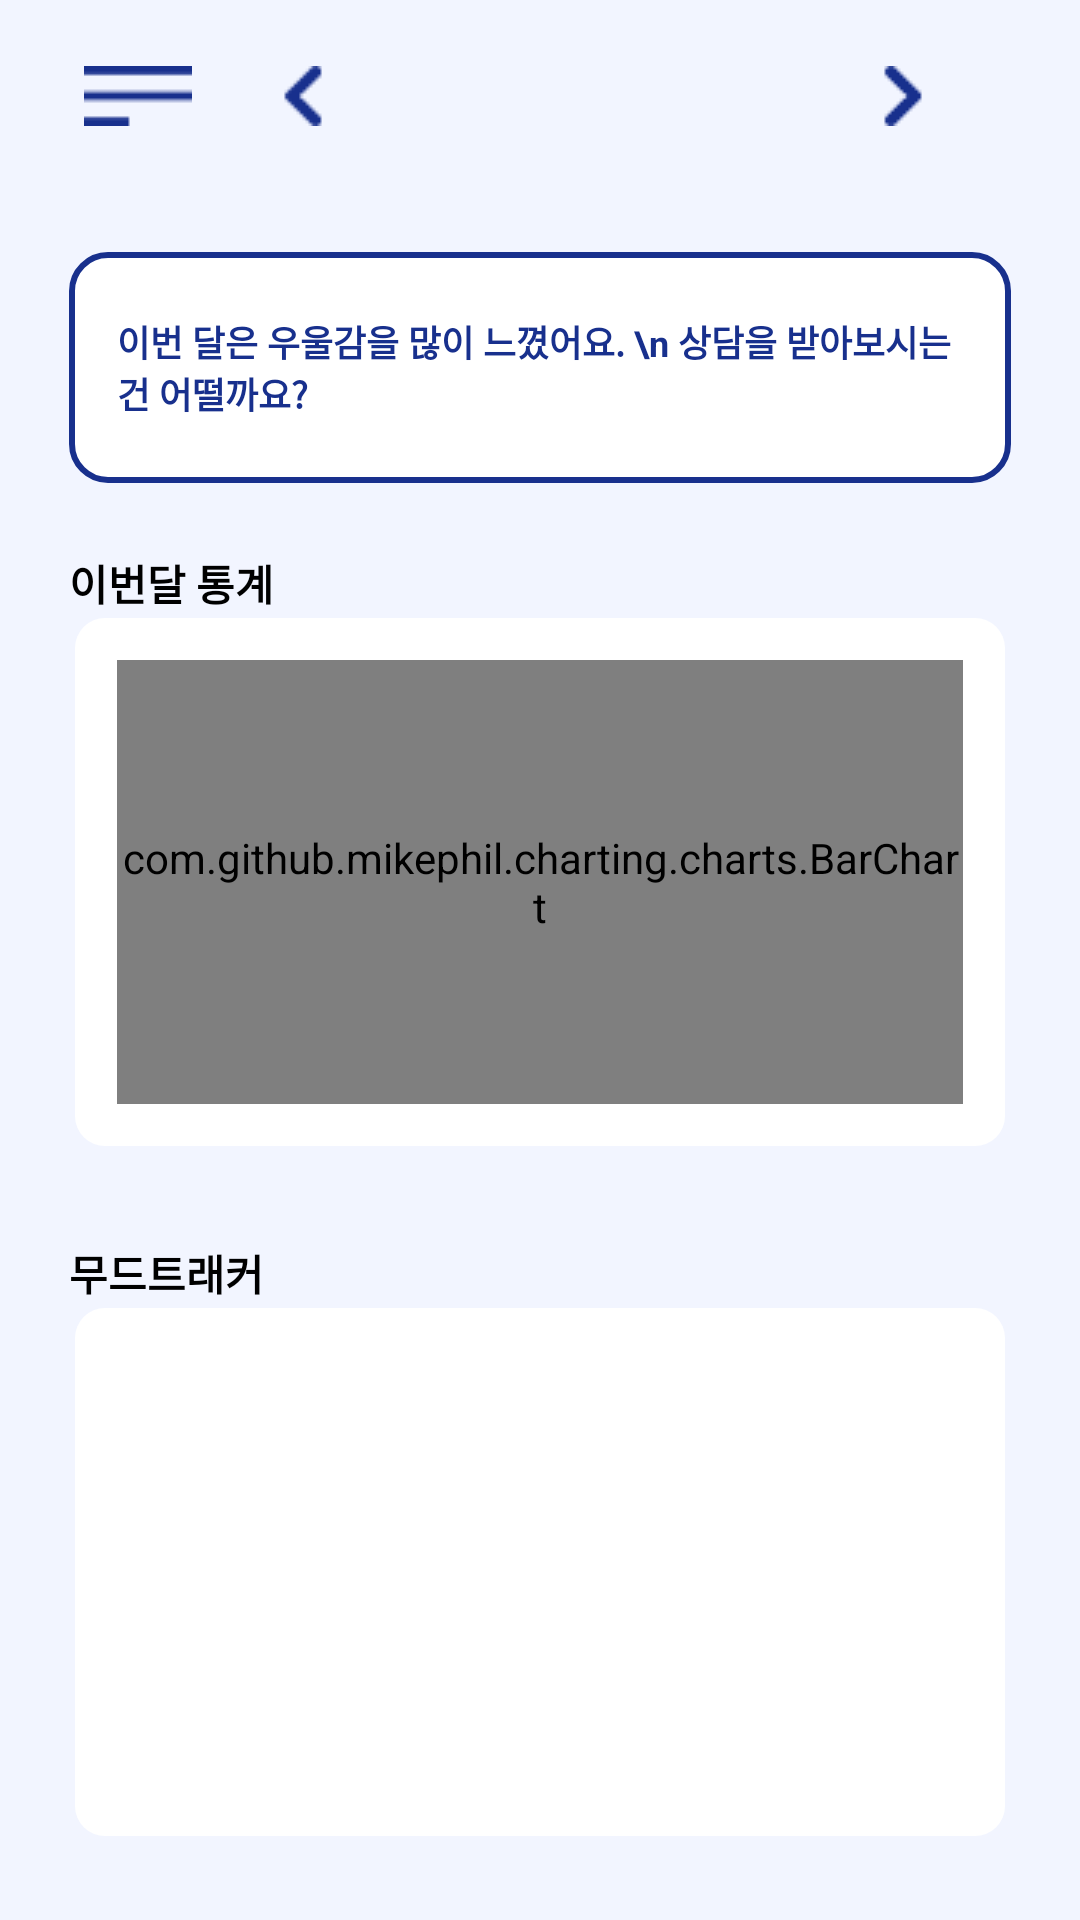

Named icons in this screenshot (1080 x 1920) and their bounding boxes, (x1, y1, x2, y2):
menu: (84, 66, 192, 126)
